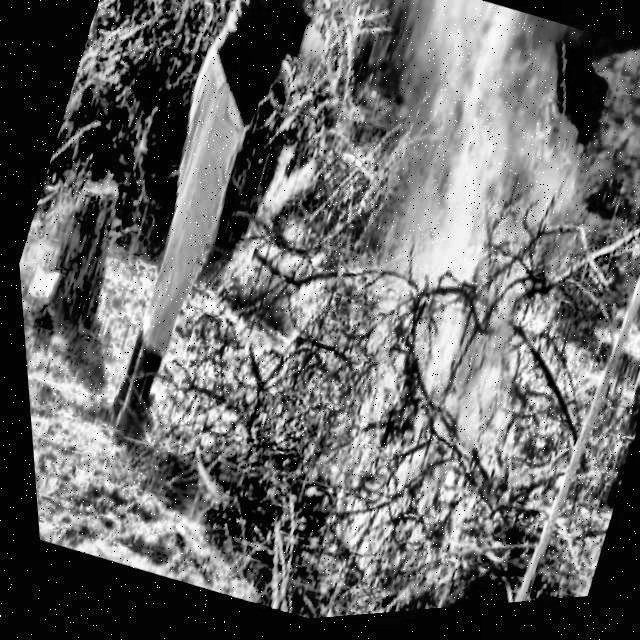Fire: (293, 39, 640, 617)
Smoke: (256, 0, 564, 489)
